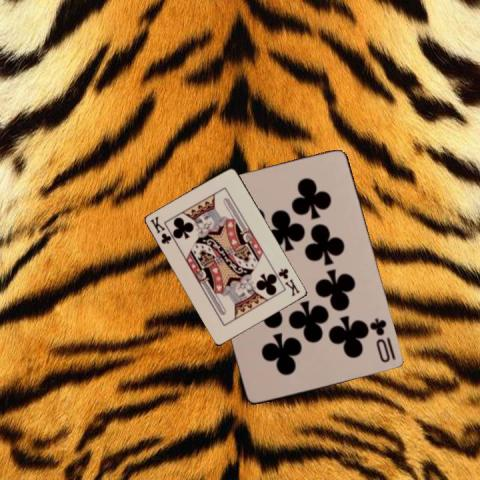10c: (368, 315, 398, 364)
Kc: (147, 214, 174, 246), (276, 266, 302, 298)
